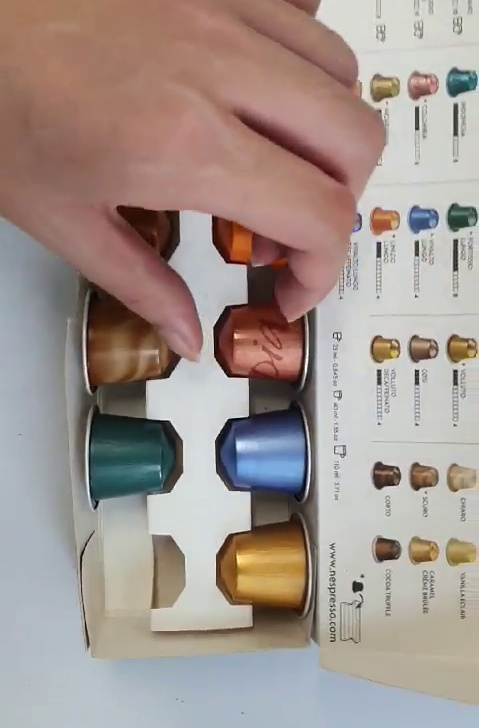capsule_6: (215, 296, 311, 392)
